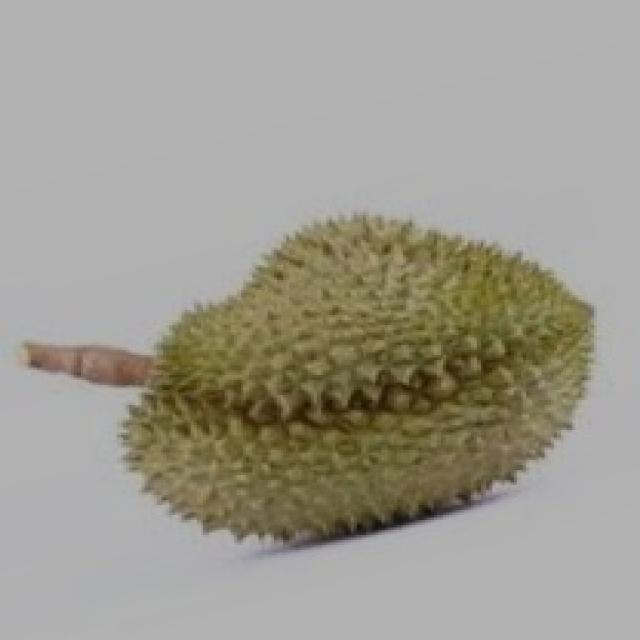fruit: (71, 182, 455, 600), (280, 210, 637, 588)
